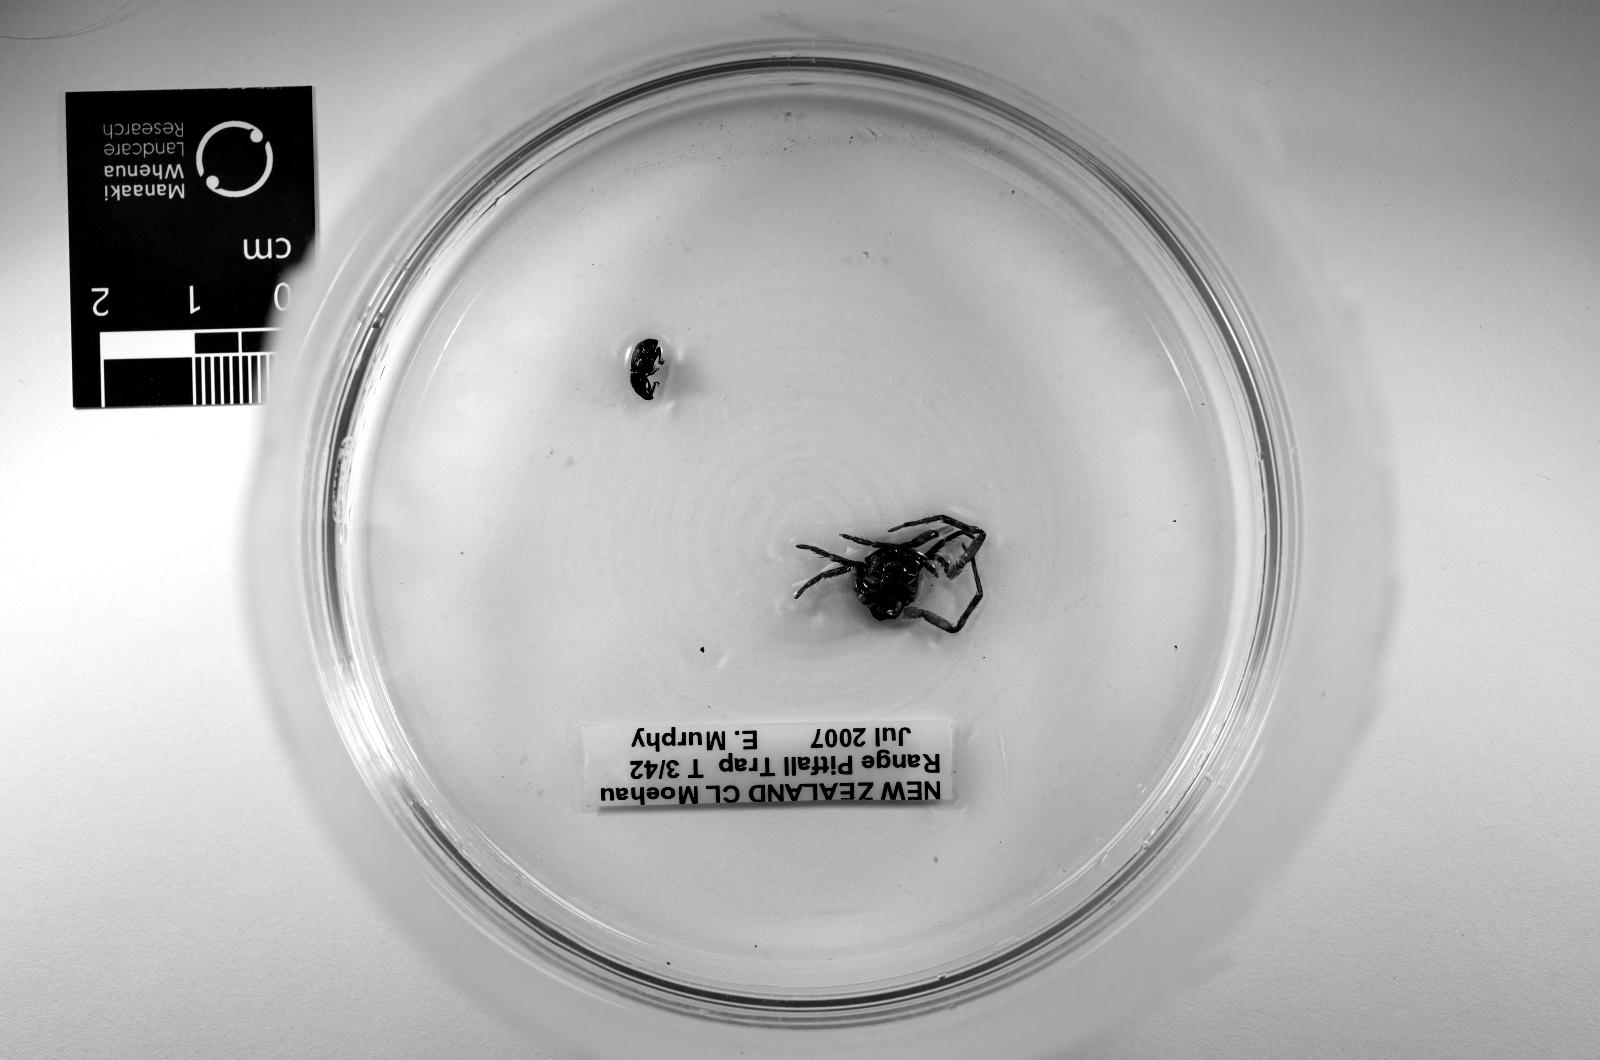araneae: (799, 516, 984, 634)
coleoptera: (631, 338, 662, 401)
